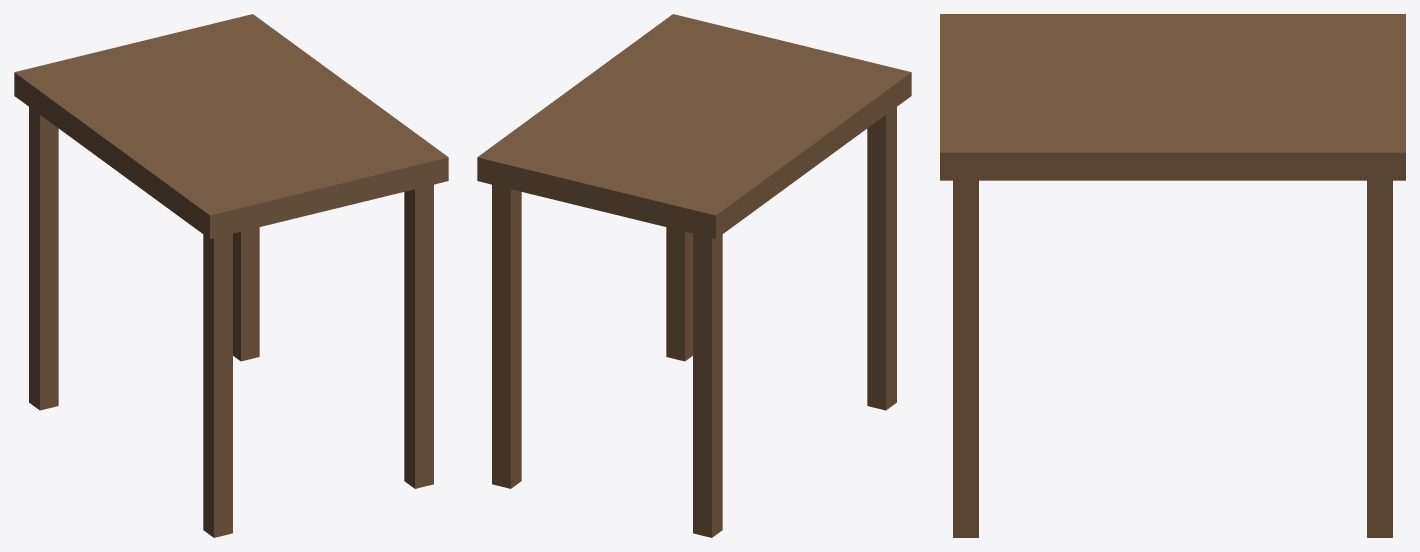
File: desk.glb
The picture shows the model from 3 angles, left to right: view 1: azimuth 30°, elevation 25°; view 2: azimuth 150°, elevation 25°; view 3: azimuth 270°, elevation 25°; orthographic projection. The views are drawn at different scales.
Visible parts, largest first — view 1: REF-L04-R01-desk-part-1, REF-L04-R01-desk-part-3, REF-L04-R01-desk-part-5, REF-L04-R01-desk-part-2, REF-L04-R01-desk-part-4; view 2: REF-L04-R01-desk-part-1, REF-L04-R01-desk-part-2, REF-L04-R01-desk-part-4, REF-L04-R01-desk-part-3, REF-L04-R01-desk-part-5; view 3: REF-L04-R01-desk-part-1, REF-L04-R01-desk-part-4, REF-L04-R01-desk-part-5.
Boxes of the visible parts, x1=… form: REF-L04-R01-desk-part-1: x1=14, y1=14, x2=448, y2=238; REF-L04-R01-desk-part-3: x1=203, y1=233, x2=232, y2=537; REF-L04-R01-desk-part-5: x1=404, y1=184, x2=433, y2=488; REF-L04-R01-desk-part-2: x1=29, y1=107, x2=58, y2=410; REF-L04-R01-desk-part-4: x1=233, y1=227, x2=259, y2=361; REF-L04-R01-desk-part-1: x1=477, y1=14, x2=911, y2=238; REF-L04-R01-desk-part-2: x1=693, y1=233, x2=722, y2=537; REF-L04-R01-desk-part-4: x1=492, y1=184, x2=521, y2=488; REF-L04-R01-desk-part-3: x1=867, y1=107, x2=896, y2=410; REF-L04-R01-desk-part-5: x1=666, y1=227, x2=692, y2=361; REF-L04-R01-desk-part-1: x1=940, y1=14, x2=1405, y2=180; REF-L04-R01-desk-part-4: x1=1367, y1=180, x2=1392, y2=537; REF-L04-R01-desk-part-5: x1=953, y1=180, x2=978, y2=537.
Size of the model in its own units: 0.19 by 0.25 by 0.27.
